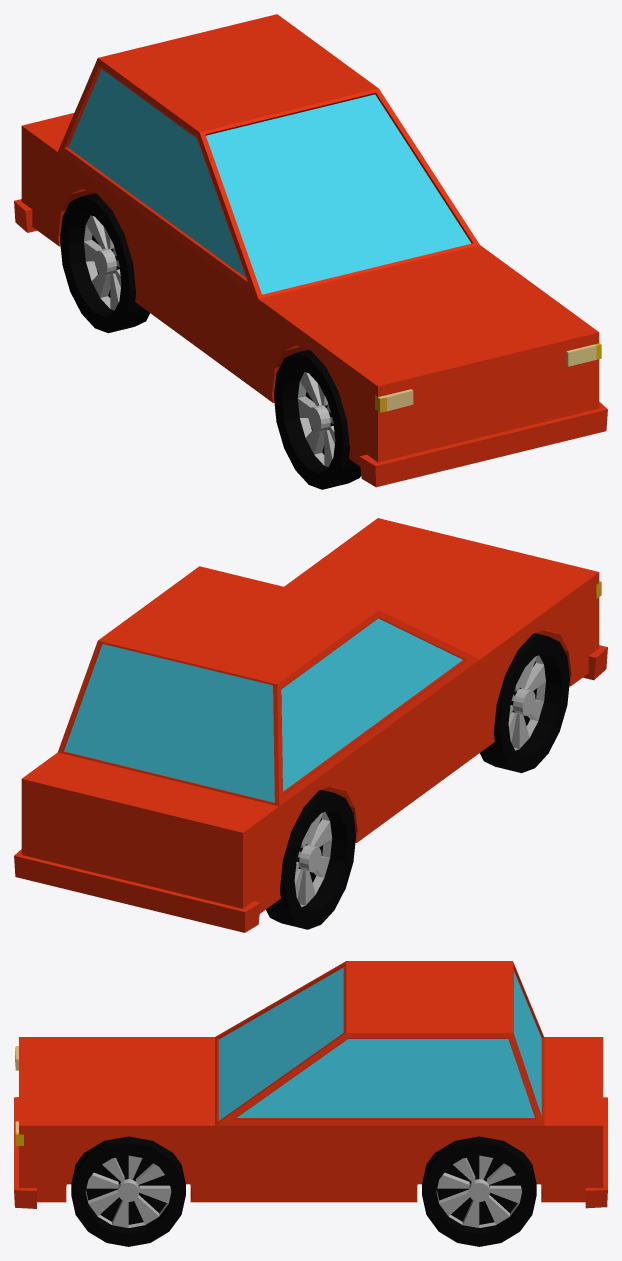
Rendered from Car.fbx.
3 views of the same model, one above another, from view 1: azimuth 30°, elevation 25°; view 2: azimuth 150°, elevation 25°; view 3: azimuth 270°, elevation 25° (orthographic). The views are drawn at different scales.
Visible parts, largest first — view 1: Cube, Cylinder.006, Cylinder.001, Cube.002; view 2: Cube, Cylinder.001, Cylinder.006; view 3: Cube, Cylinder.001, Cylinder.006.
Boxes of the visible parts, x1=… form: Cube: x1=14, y1=14, x2=607, y2=487; Cylinder.006: x1=60, y1=193, x2=149, y2=333; Cylinder.001: x1=274, y1=349, x2=361, y2=489; Cube.002: x1=375, y1=389, x2=413, y2=412; Cube: x1=14, y1=518, x2=607, y2=932; Cylinder.001: x1=480, y1=633, x2=569, y2=773; Cylinder.006: x1=266, y1=789, x2=355, y2=929; Cube: x1=14, y1=961, x2=607, y2=1208; Cylinder.001: x1=71, y1=1136, x2=185, y2=1246; Cylinder.006: x1=422, y1=1136, x2=536, y2=1246.
Size of the model in its own units: 214 by 215 by 566.
